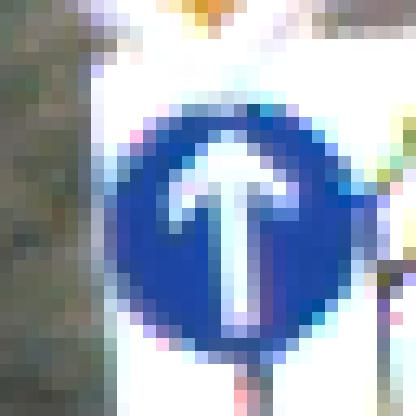AheadOnly: (79, 66, 339, 339)
